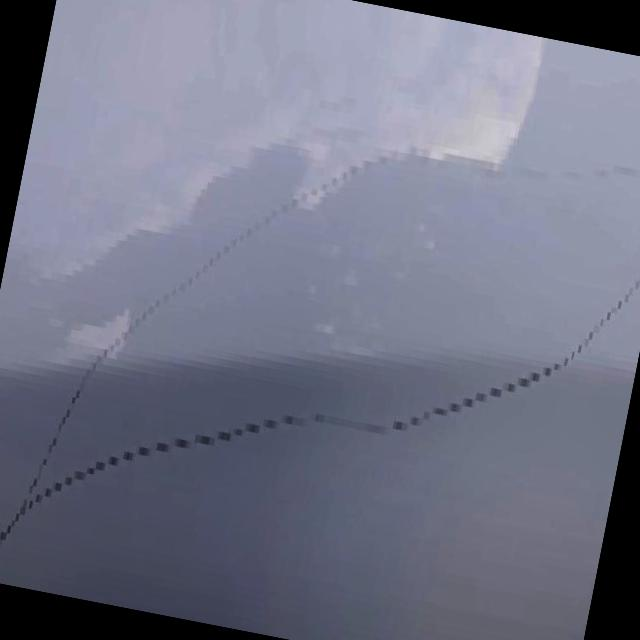crack: (72, 253, 607, 603), (103, 61, 558, 448)
